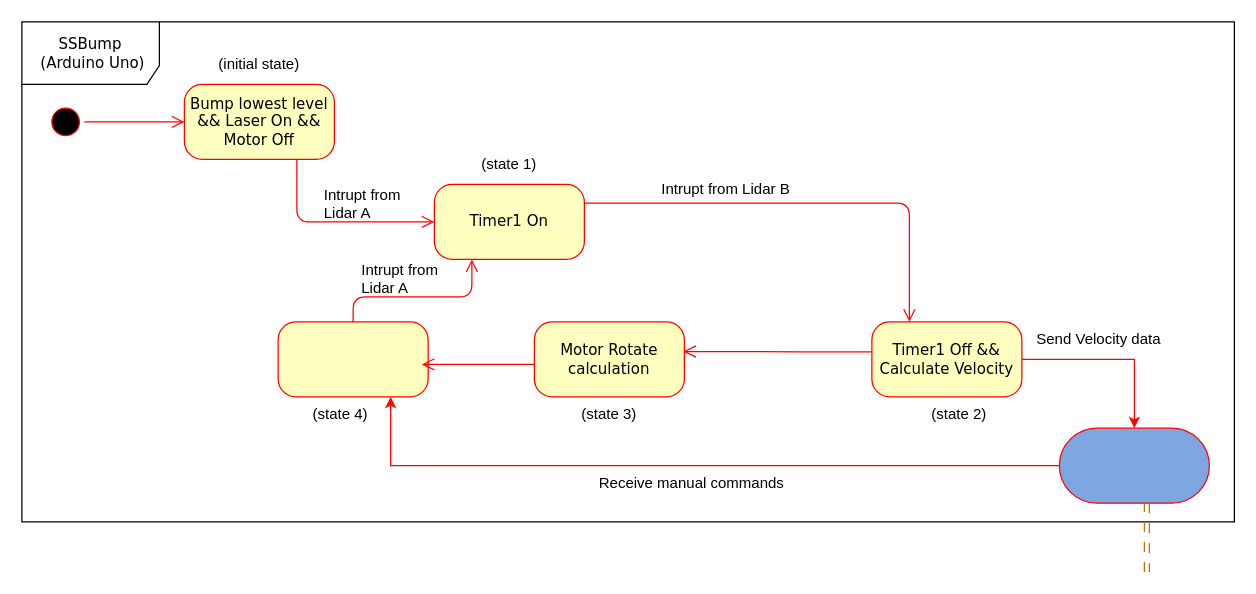
Some shapes in this 1256 by 594 pixel diagram are drawn without their labels. Each missing label, with the centre of its shape:
"LORA Communication" goes at point 1133,465.
"Motor Rotate" goes at point 352,359.
